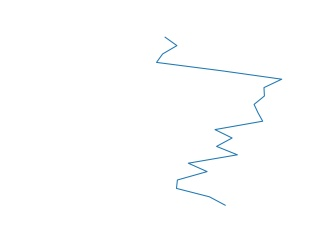floodPlain: (155, 35, 284, 207)
